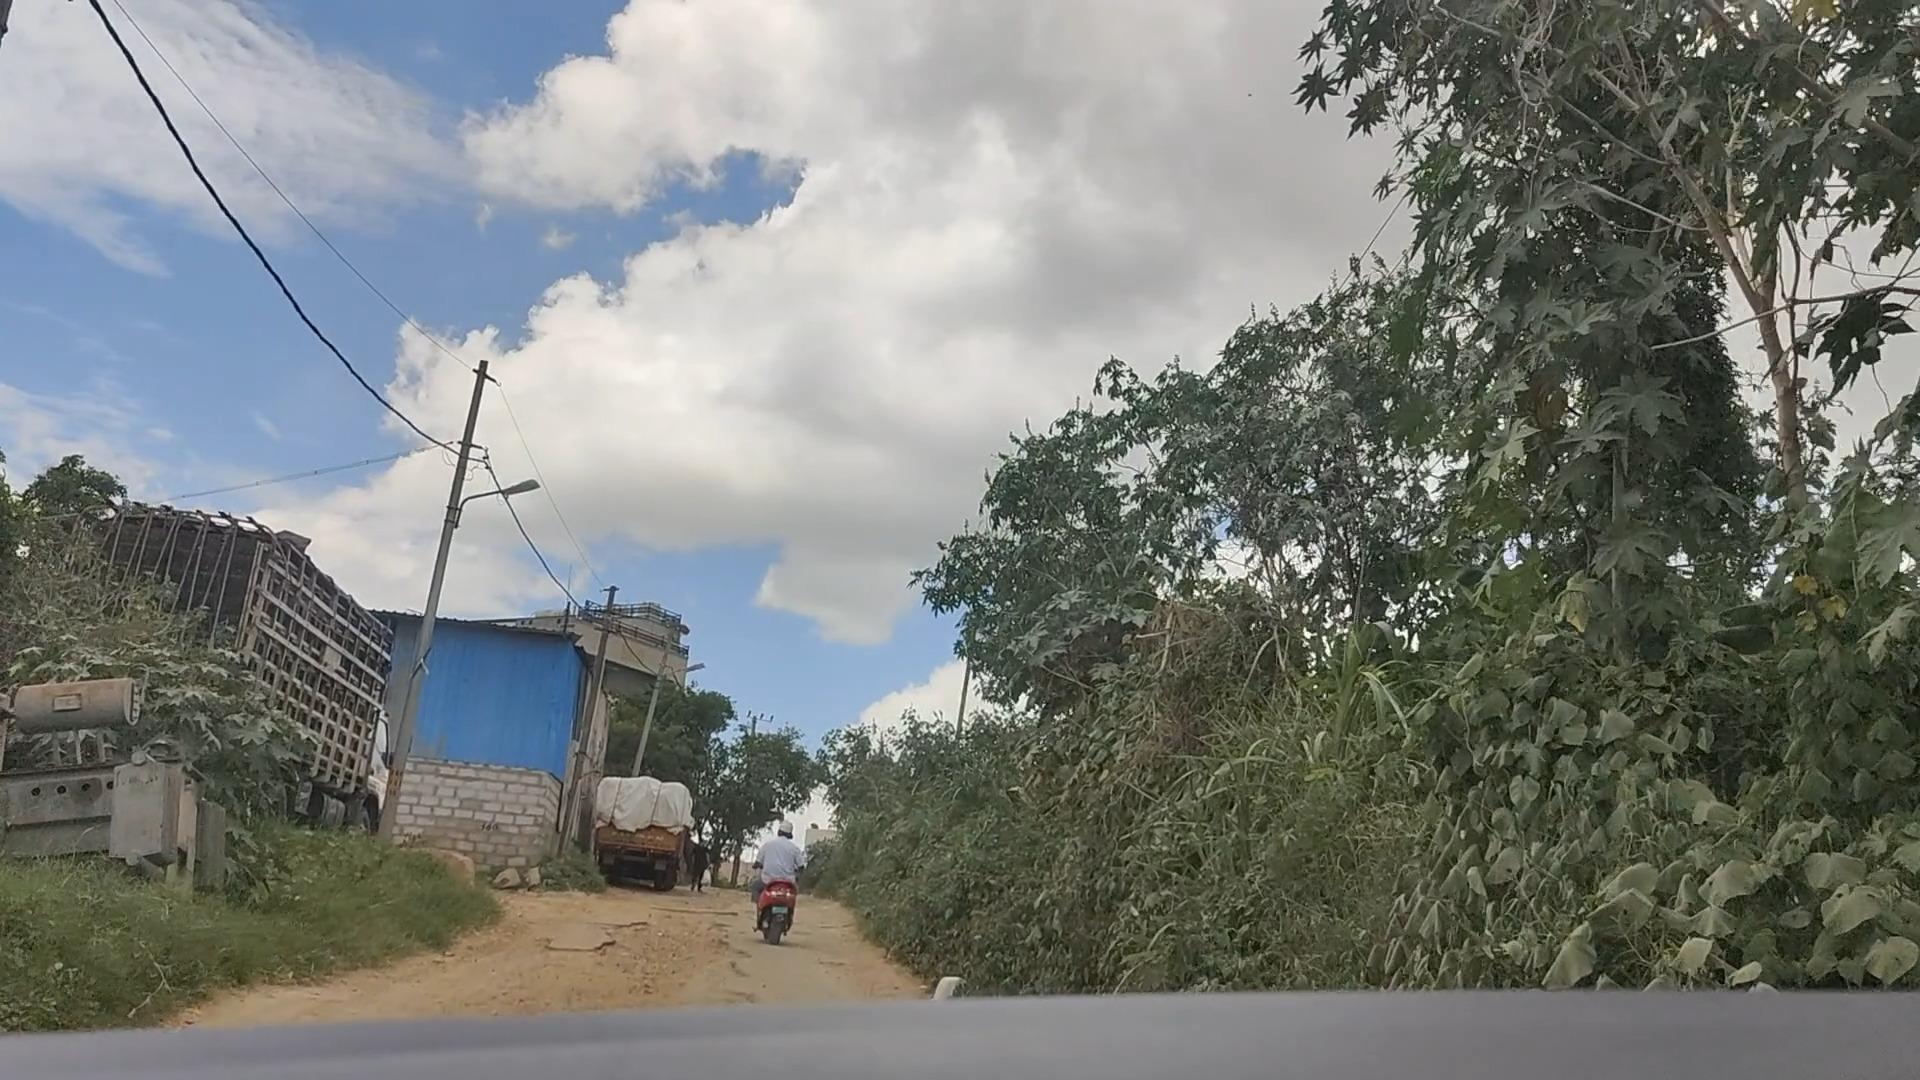HMV: (579, 769, 691, 900)
RoadDamages: (478, 911, 777, 1012)
